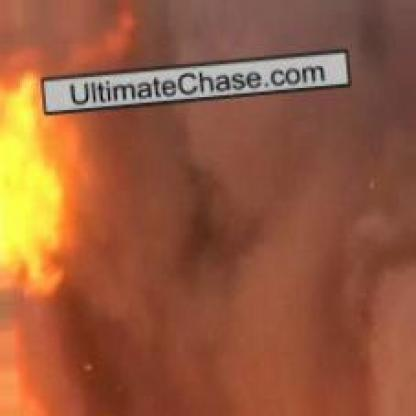fire: (0, 54, 73, 301)
smoke: (101, 7, 391, 402)
